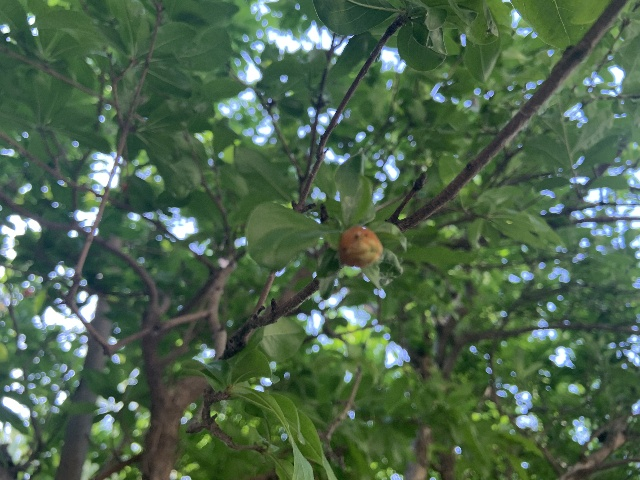bud: (338, 226, 382, 267)
